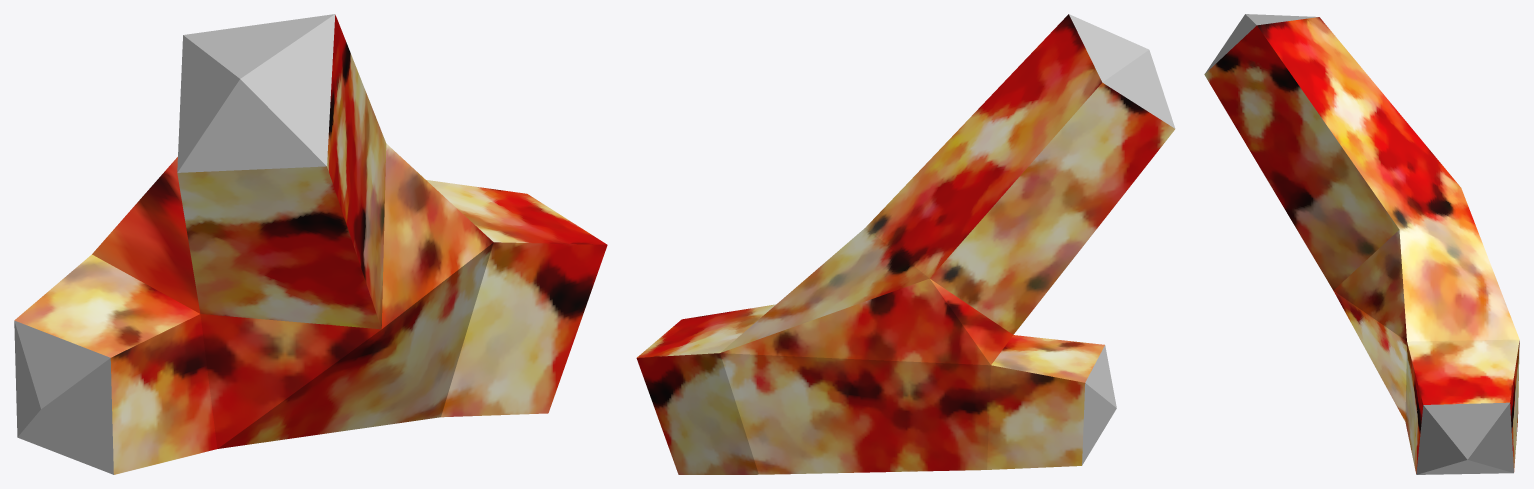
The model's file is RightAntler2.fbx.
The picture shows the model from 3 angles, left to right: view 1: azimuth 30°, elevation 25°; view 2: azimuth 150°, elevation 25°; view 3: azimuth 270°, elevation 25°; orthographic projection. The views are drawn at different scales.
Parts seen in each view (by area): view 1: BigRightAntler2; view 2: BigRightAntler2; view 3: BigRightAntler2.
Boxes of the visible parts, x1,y1,x2,y2 form: BigRightAntler2: [14, 14, 607, 474]; BigRightAntler2: [636, 14, 1175, 474]; BigRightAntler2: [1204, 14, 1519, 474].
Bounding box in the file's own units: 489 × 454 × 372.
